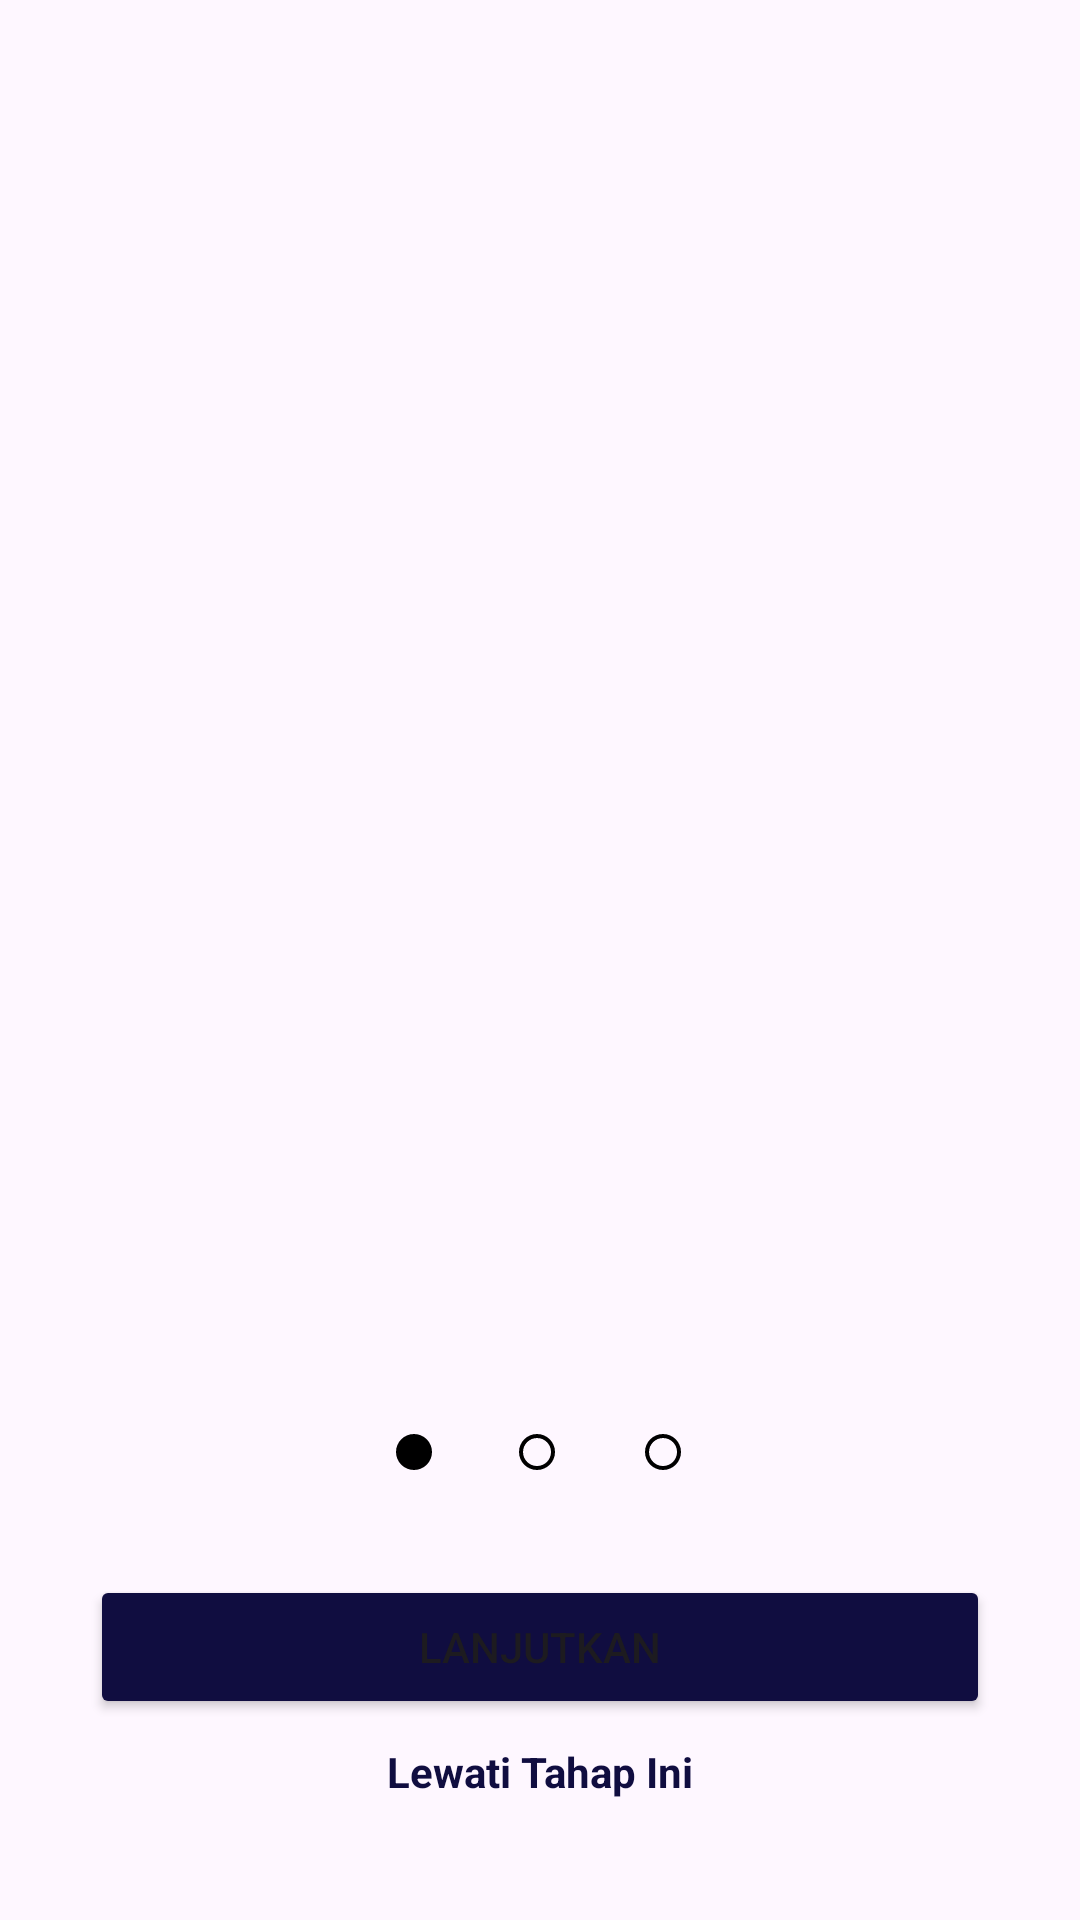

Named icons in this screenshot (1080 x 1920) and their centers, [x,y]:
circlebolong: [537,1452], [663,1452]
